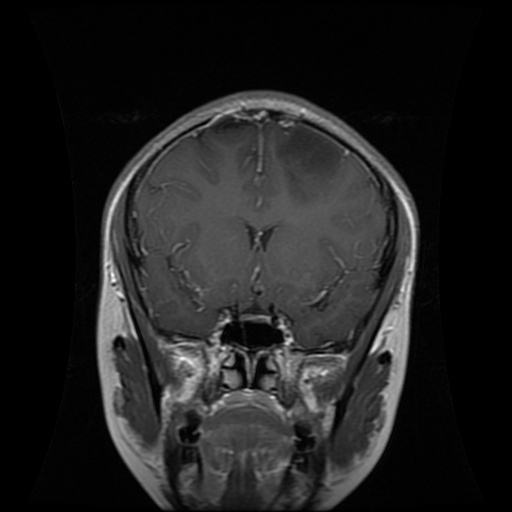glioma: (269, 123, 345, 204)
